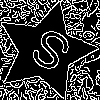S: (20, 26, 76, 82)
